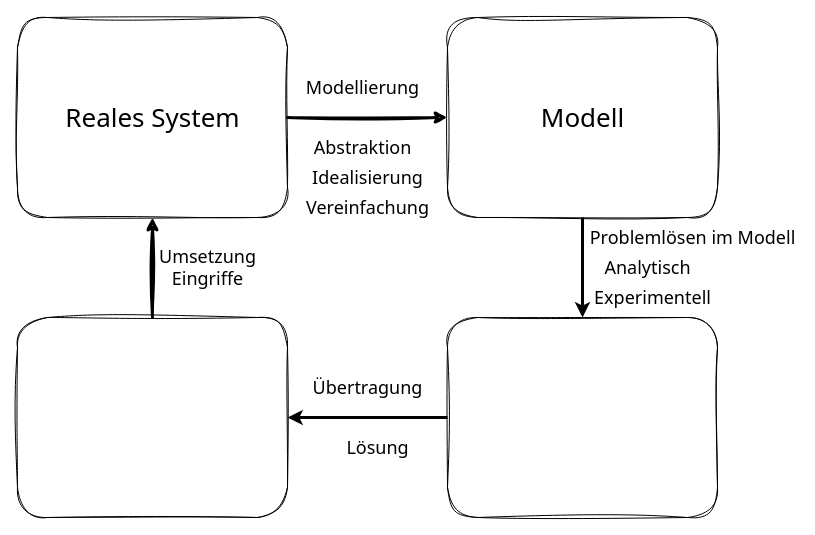
The diagram is 815 pixels wide and 535 high, and some of its shapes have lost their labels. The shapes that lost their labels are listed below. From the top down, each one's centre as x and y in pixels, then its label:
At pixel 152 417: "Lösung in der Realität".
At pixel 582 417: "Lösung im Modell".
